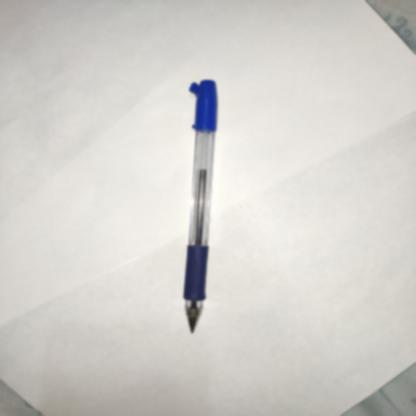Pen: (172, 69, 252, 350)
